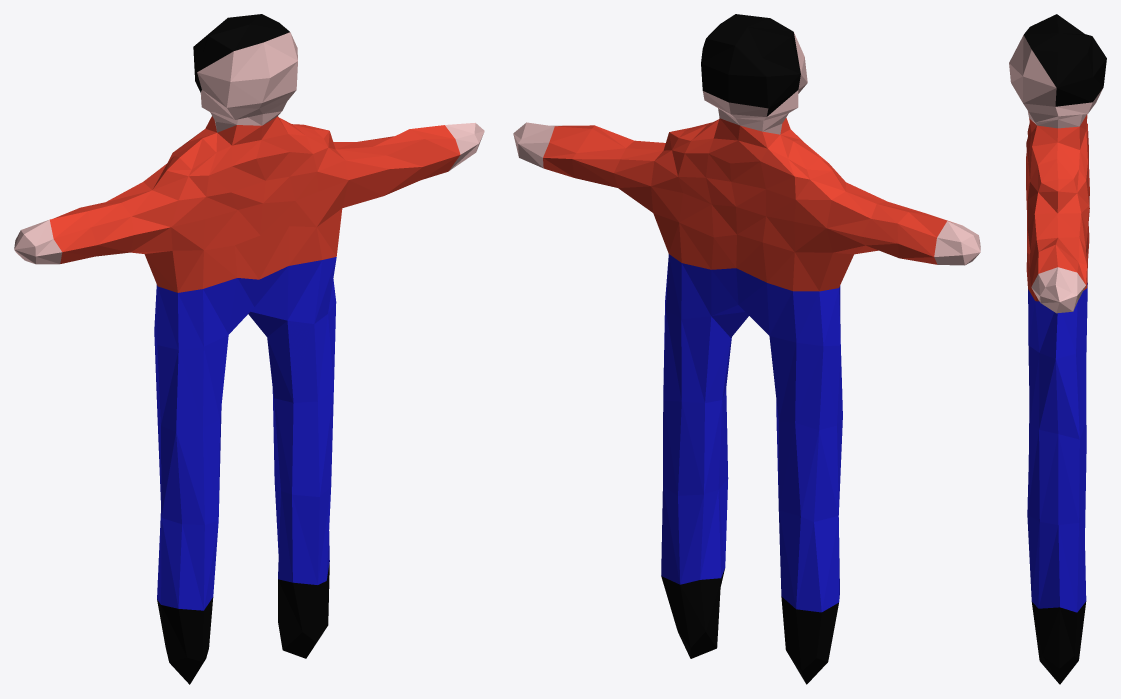
Rendered from persona1.fbx.
3 views of the same model, side by side, from view 1: azimuth 30°, elevation 25°; view 2: azimuth 150°, elevation 25°; view 3: azimuth 270°, elevation 25° (orthographic). The views are drawn at different scales.
Parts seen in each view (by area): view 1: persona1; view 2: persona1; view 3: persona1.
Part boxes in pixels (x1=…): persona1: x1=14, y1=14, x2=484, y2=684; persona1: x1=513, y1=14, x2=980, y2=684; persona1: x1=1009, y1=14, x2=1106, y2=684.
Bounding box in the file's own units: 545 × 718 × 102.
